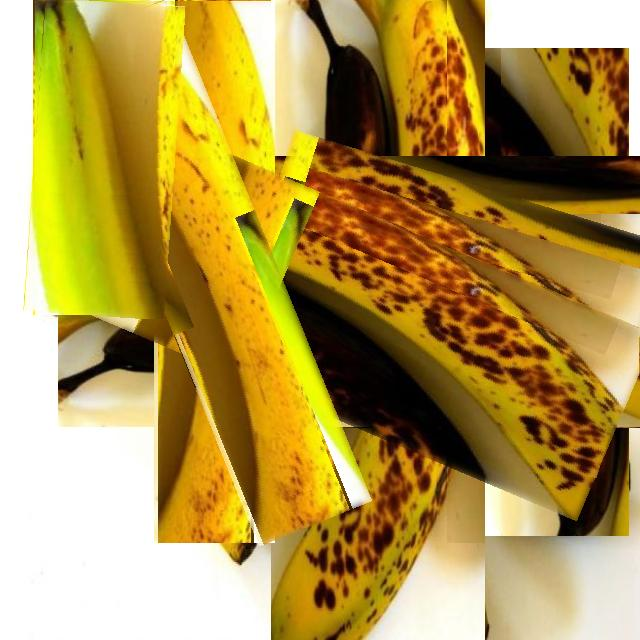Execivamente Madura: (229, 270, 640, 425)
Muito Madura: (89, 142, 616, 521), (77, 23, 348, 546)
Quase Madura: (32, 0, 164, 319)
